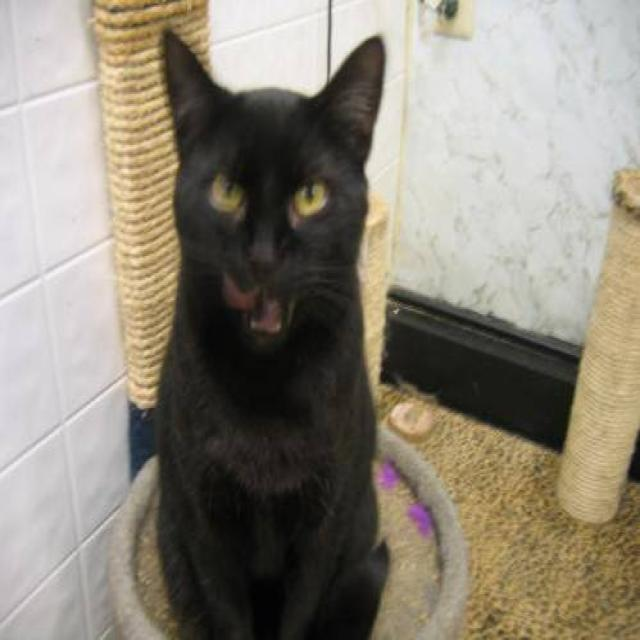cat: (105, 26, 391, 638)
